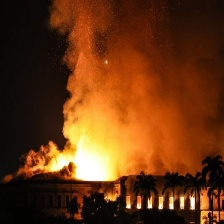fire: (55, 152, 118, 180), (123, 192, 201, 213)
smoke: (53, 3, 223, 177)
